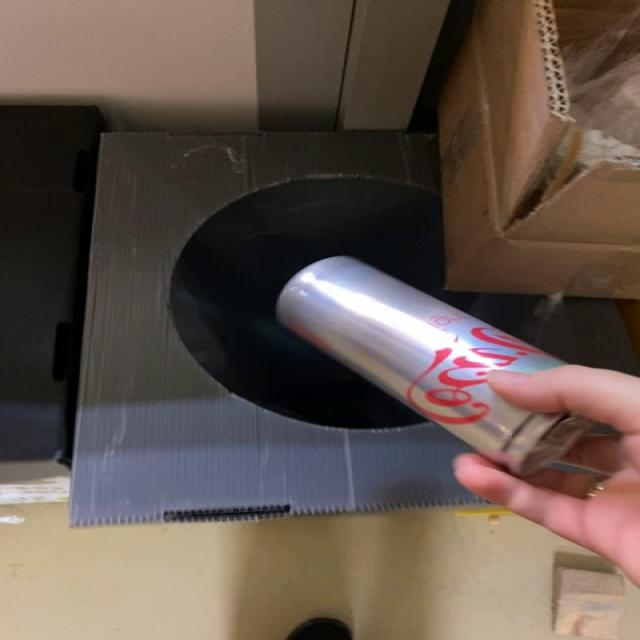bin: (69, 132, 636, 526)
metal: (276, 257, 628, 500)
